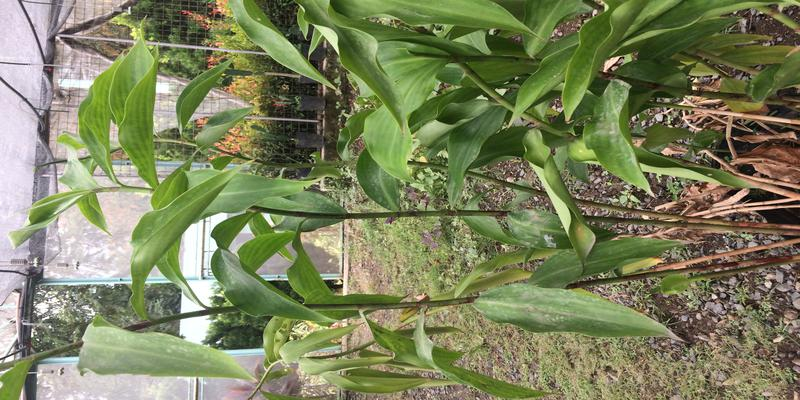Insulin: (320, 12, 800, 322)
